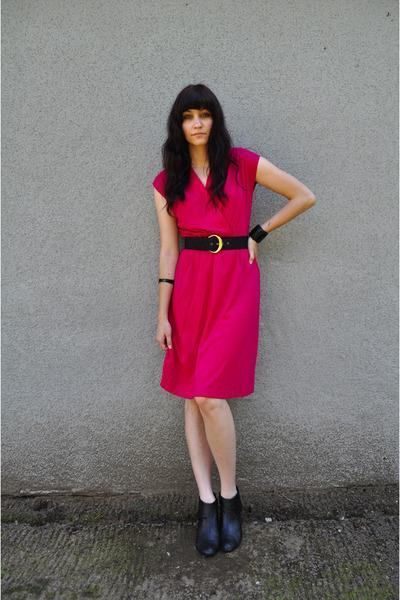dress: (152, 147, 259, 402)
shoe: (190, 492, 245, 558)
